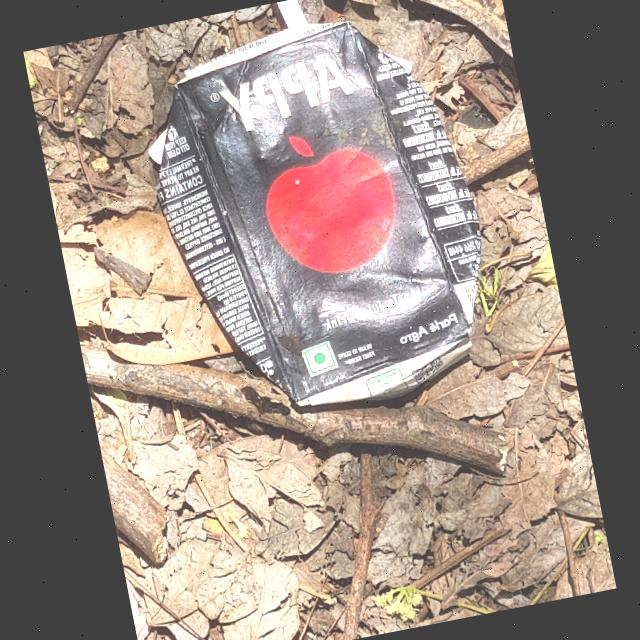trash: (128, 0, 510, 435)
